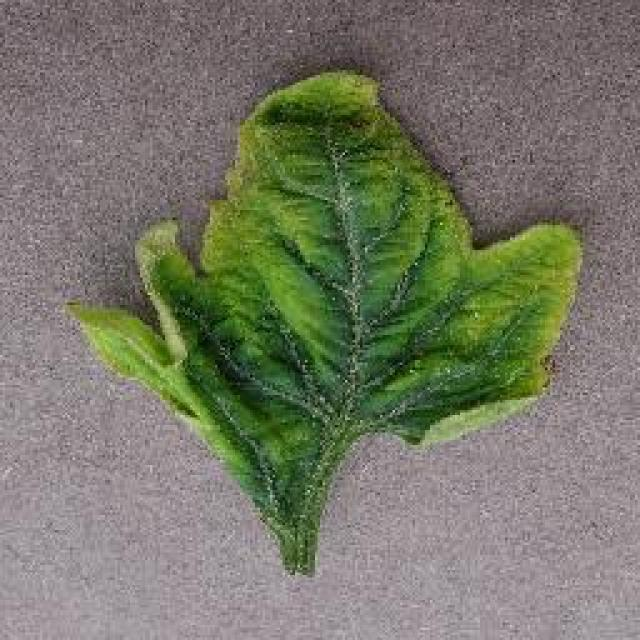Tomato yellow virus leaf: (67, 63, 584, 454)
